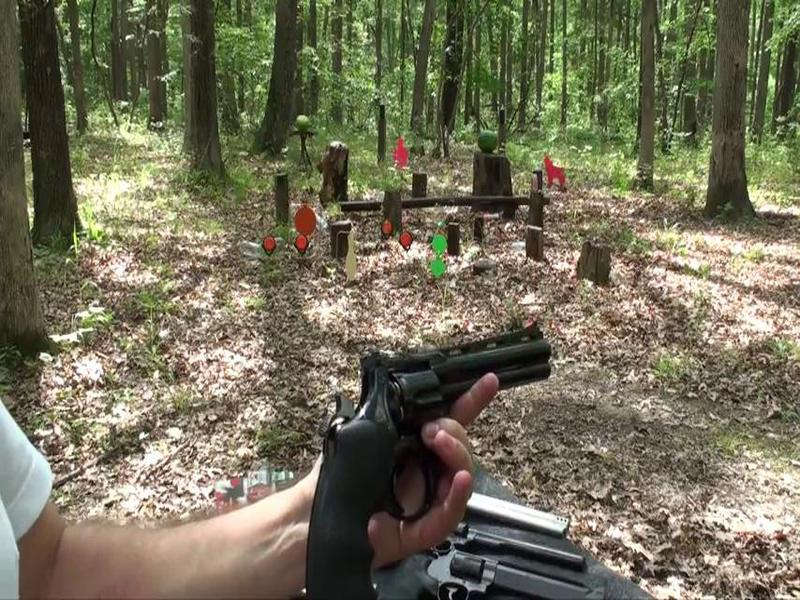Revolver: (271, 319, 577, 584)
